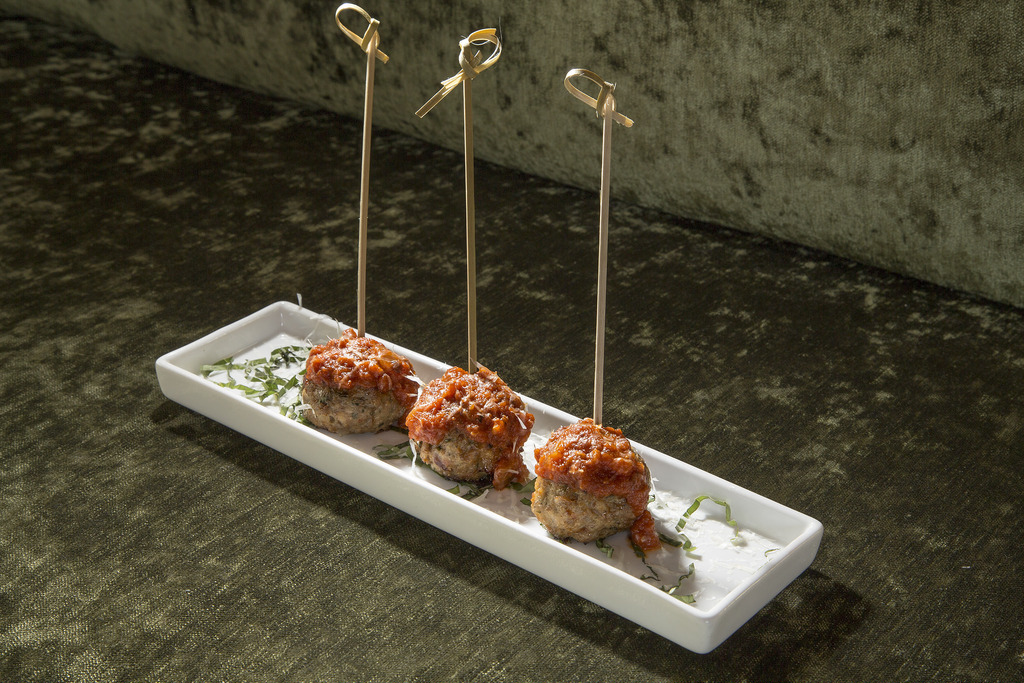meatballs: (404, 366, 522, 479), (537, 412, 645, 528), (309, 315, 396, 443)
